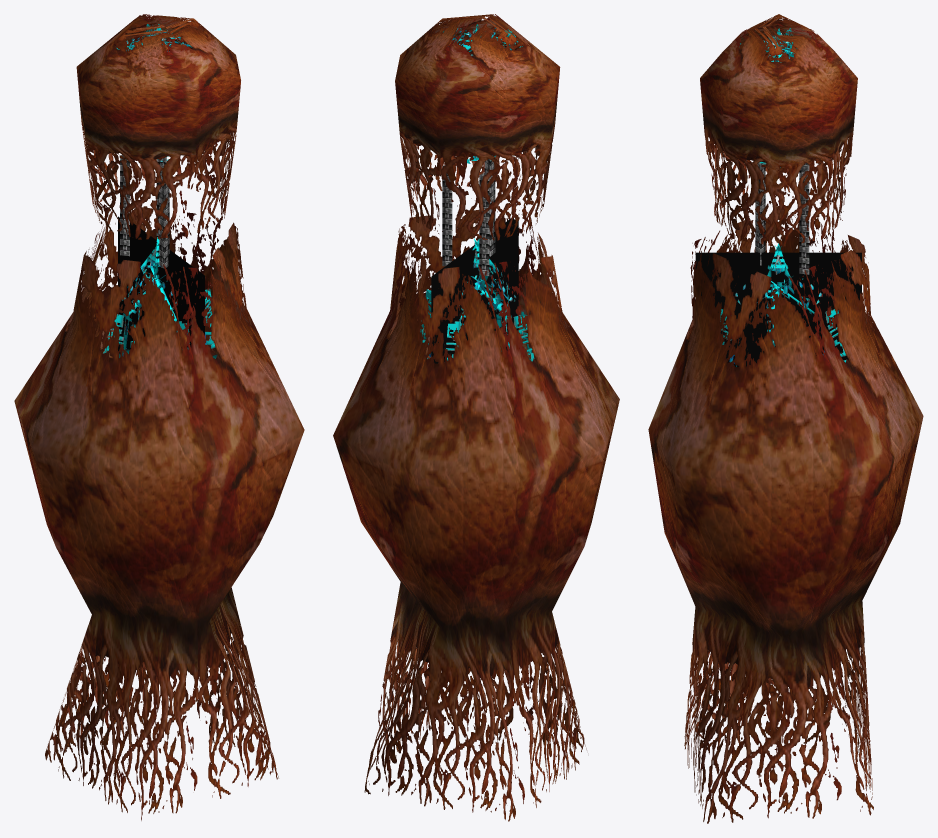
Rendered from bst23b.obj.
3 renders of one model, left to right at view 1: azimuth 30°, elevation 25°; view 2: azimuth 150°, elevation 25°; view 3: azimuth 270°, elevation 25°, orthographic.
Visible parts, largest first — view 1: BODY0.002, HEAD0.001, RECTANGLE010.002, NECK30.001, METAL-RIB30.001, NECK0.001; view 2: BODY0.002, HEAD0.001, RECTANGLE010.002, NECK20, METAL-RIB30.001, NECK0.001; view 3: BODY0.002, HEAD0.001, RECTANGLE010.002, NECK20, METAL-RIB20.001, NECK30.001.
Part boxes in pixels (box(x1,y1,x2,y2)): BODY0.002: box(14, 207, 304, 820); HEAD0.001: box(76, 14, 240, 239); RECTANGLE010.002: box(118, 216, 200, 353); NECK30.001: box(159, 165, 169, 268); METAL-RIB30.001: box(103, 240, 163, 357); NECK0.001: box(120, 155, 129, 256); BODY0.002: box(333, 210, 619, 821); HEAD0.001: box(395, 14, 560, 240); RECTANGLE010.002: box(435, 219, 518, 363); NECK20: box(442, 165, 452, 266); METAL-RIB30.001: box(471, 243, 534, 361); NECK0.001: box(479, 172, 489, 275); BODY0.002: box(648, 206, 923, 823); HEAD0.001: box(700, 14, 857, 246); RECTANGLE010.002: box(695, 252, 861, 367); NECK20: box(799, 170, 809, 274); METAL-RIB20.001: box(767, 246, 846, 362); NECK30.001: box(755, 162, 765, 265).
Size of the model in its own units: 309 by 904 by 297.
16 materials, 14 textured.
